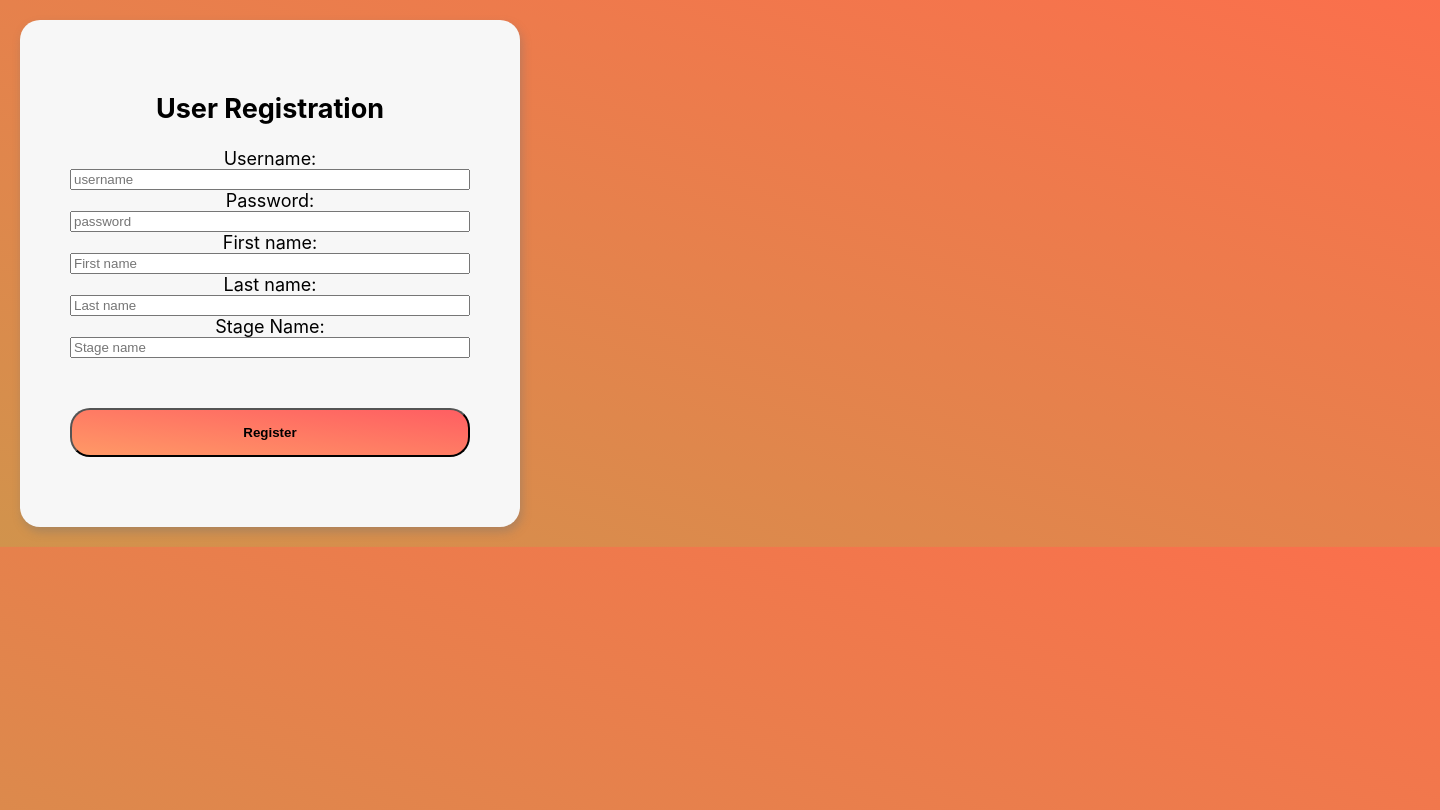
Scenario: RegisterUser.js › <h5> 'Registration Successful!' should appear when Registration is successful.
The image size is (1440, 810).
Type "chocoman" into the field labelled "username" at (270, 179), box [70,169,470,190]
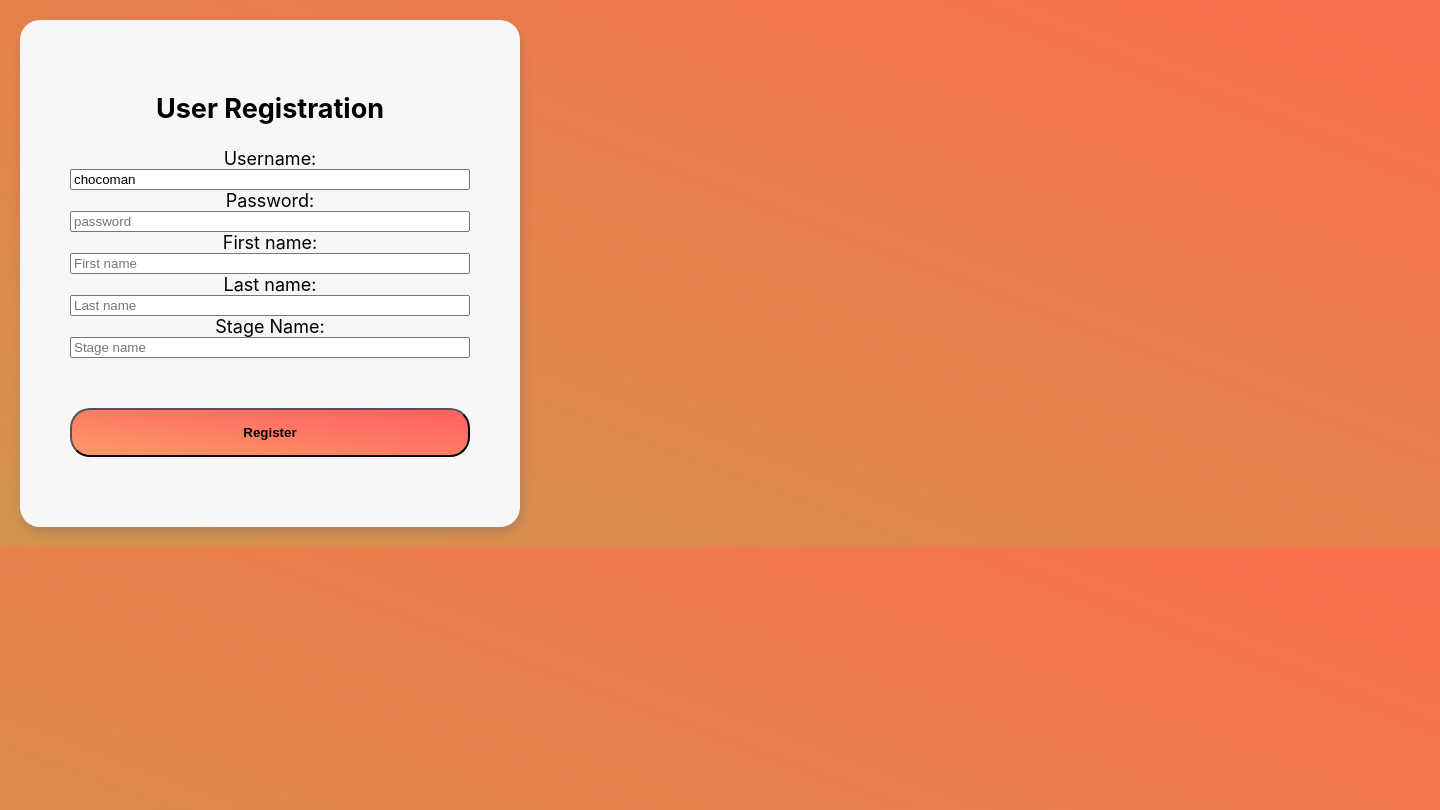
Type "Abc123123" into the password field labelled "password" at (270, 221), box [70,211,470,232]
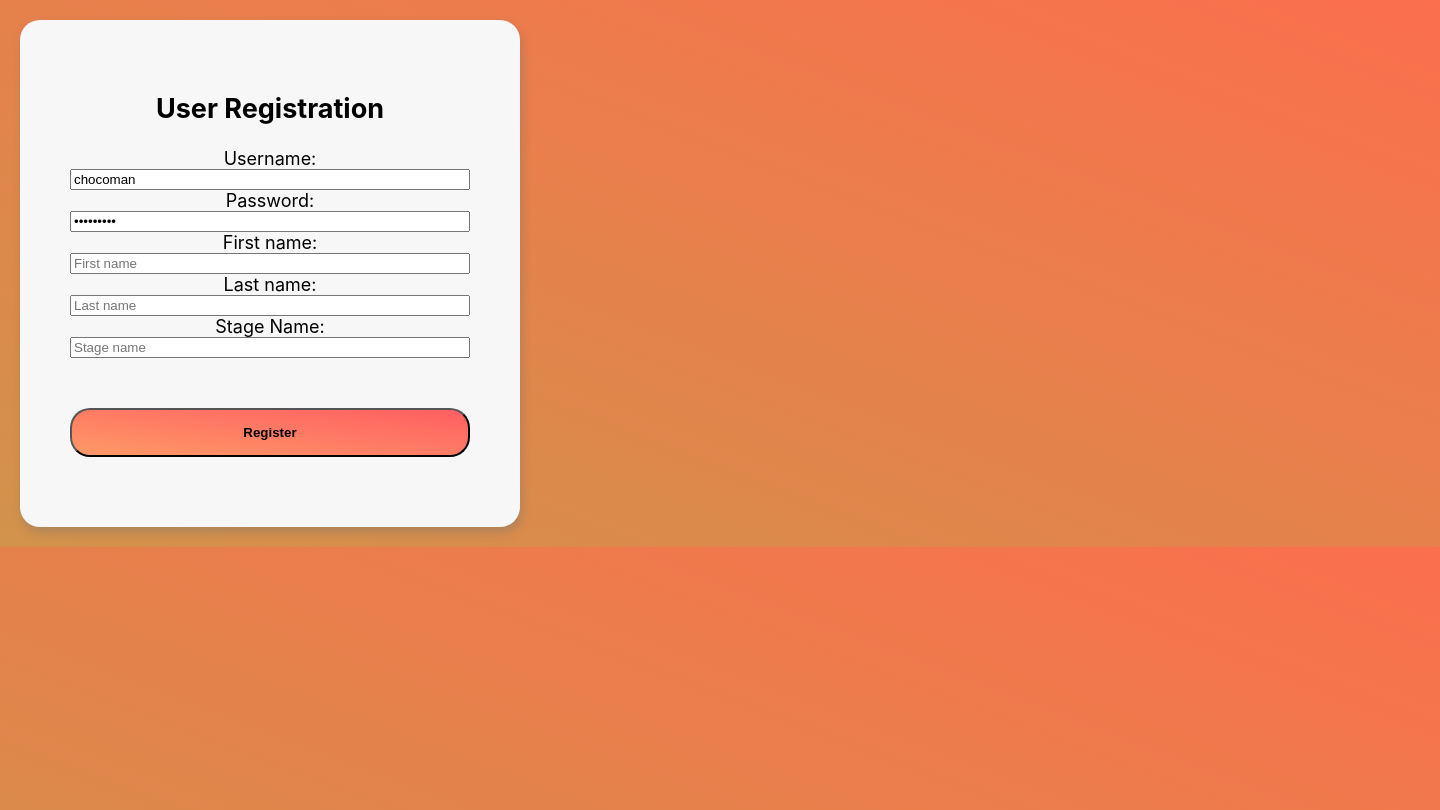
Type "choco" into the field named "firstName" at (270, 263), box [70,253,470,274]
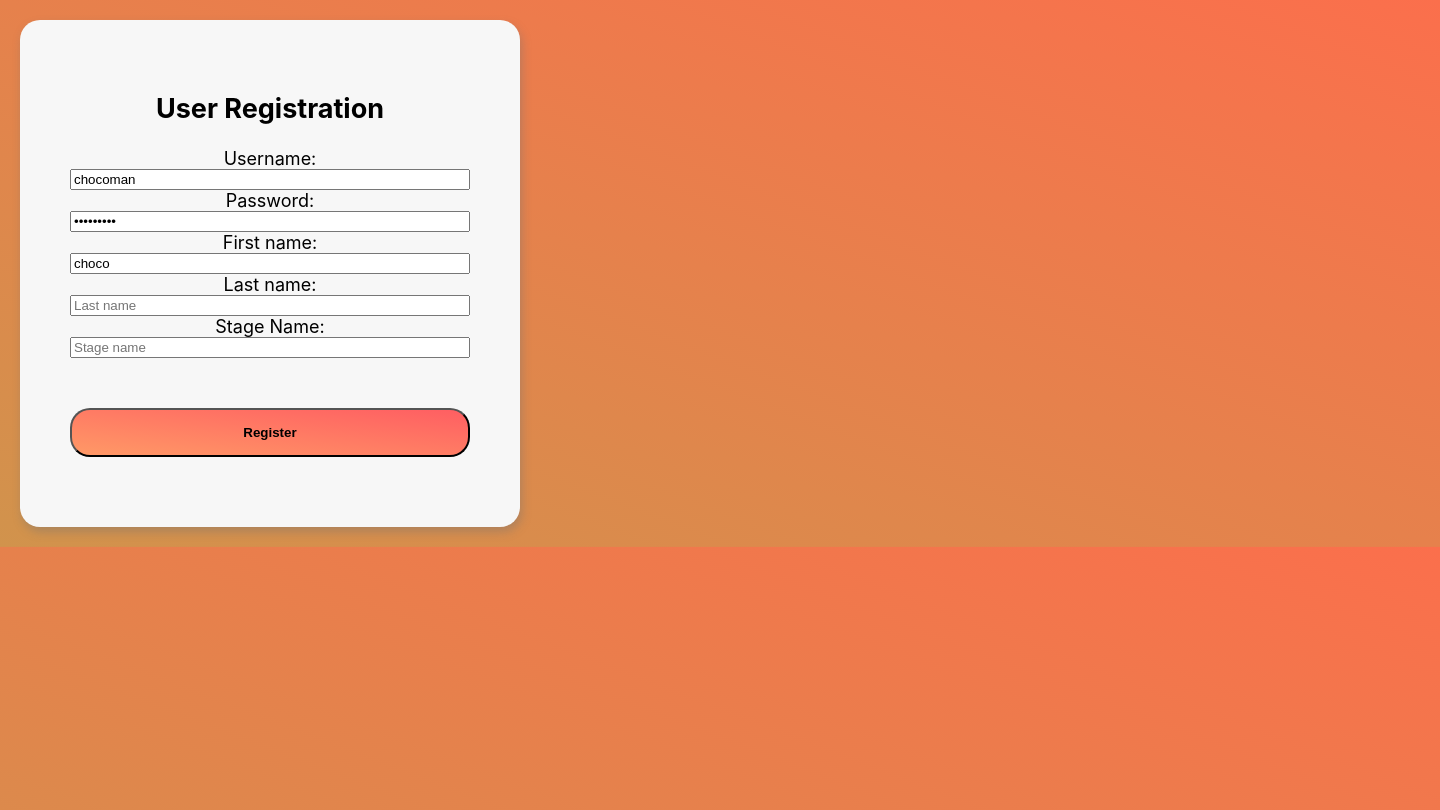
Type "man" into the field named "lastName" at (270, 305), box [70,295,470,316]
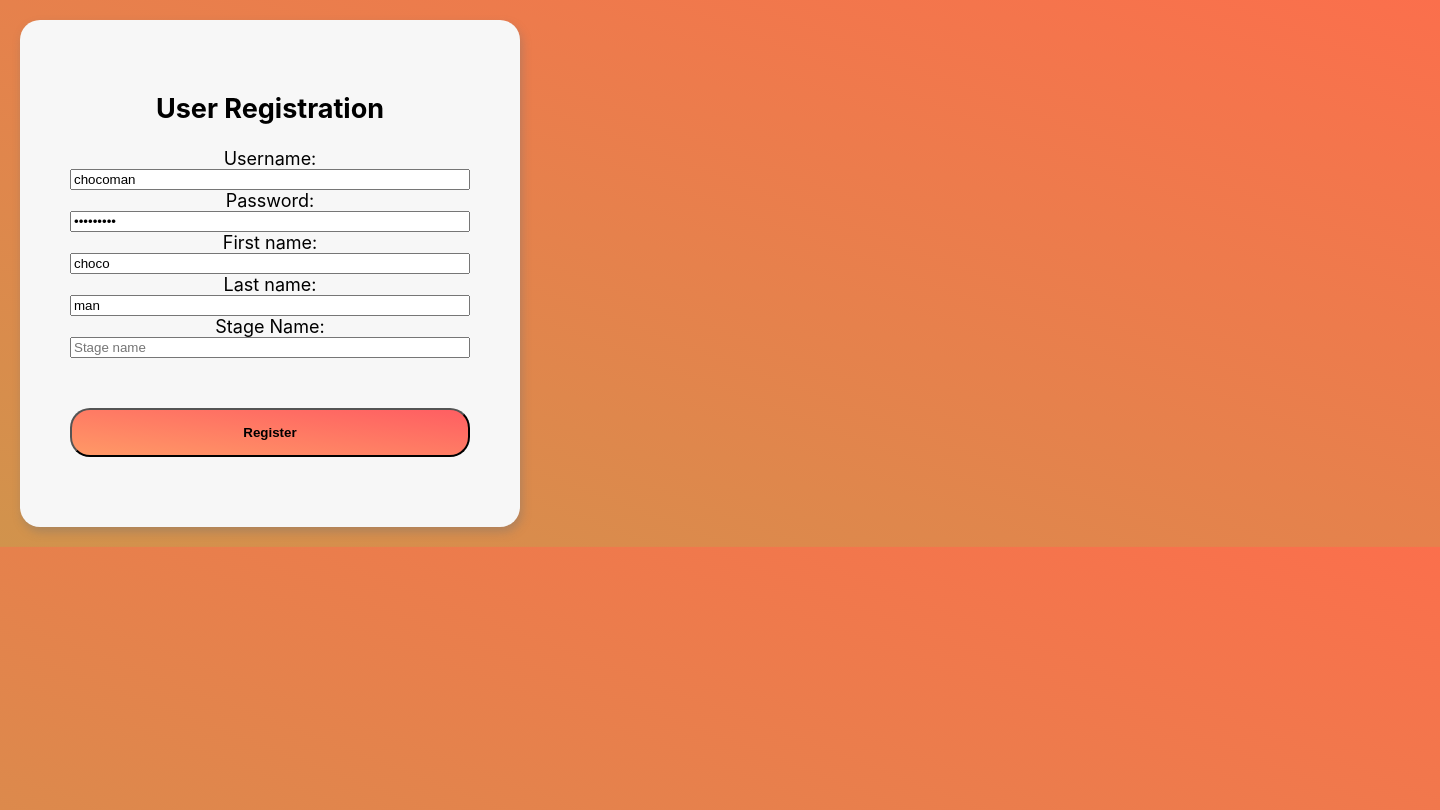
Type "chocoman" into the field named "stageName" at (270, 347), box [70,337,470,358]
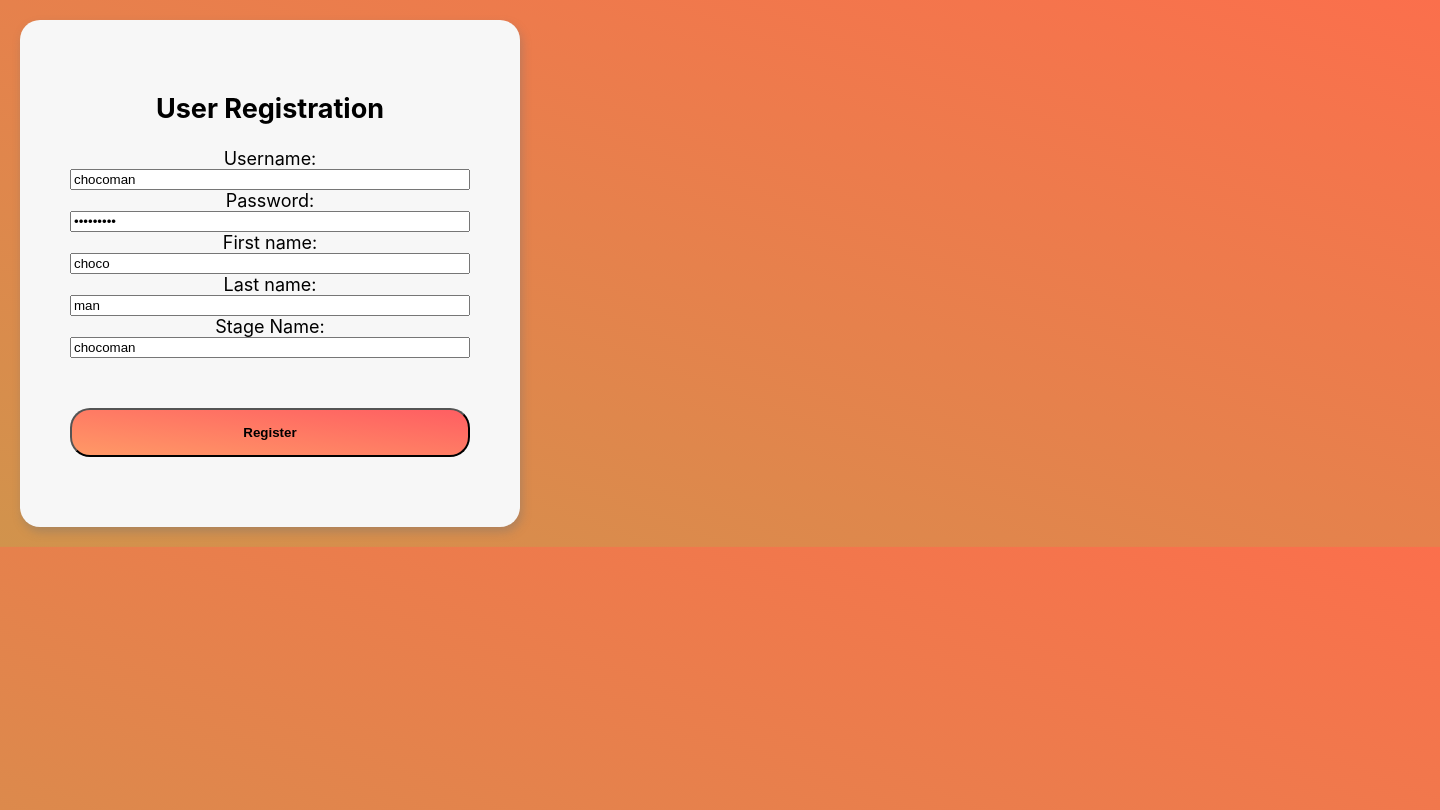
Click the button with aria-label "registerButton" at (270, 432), box [70,408,470,457]
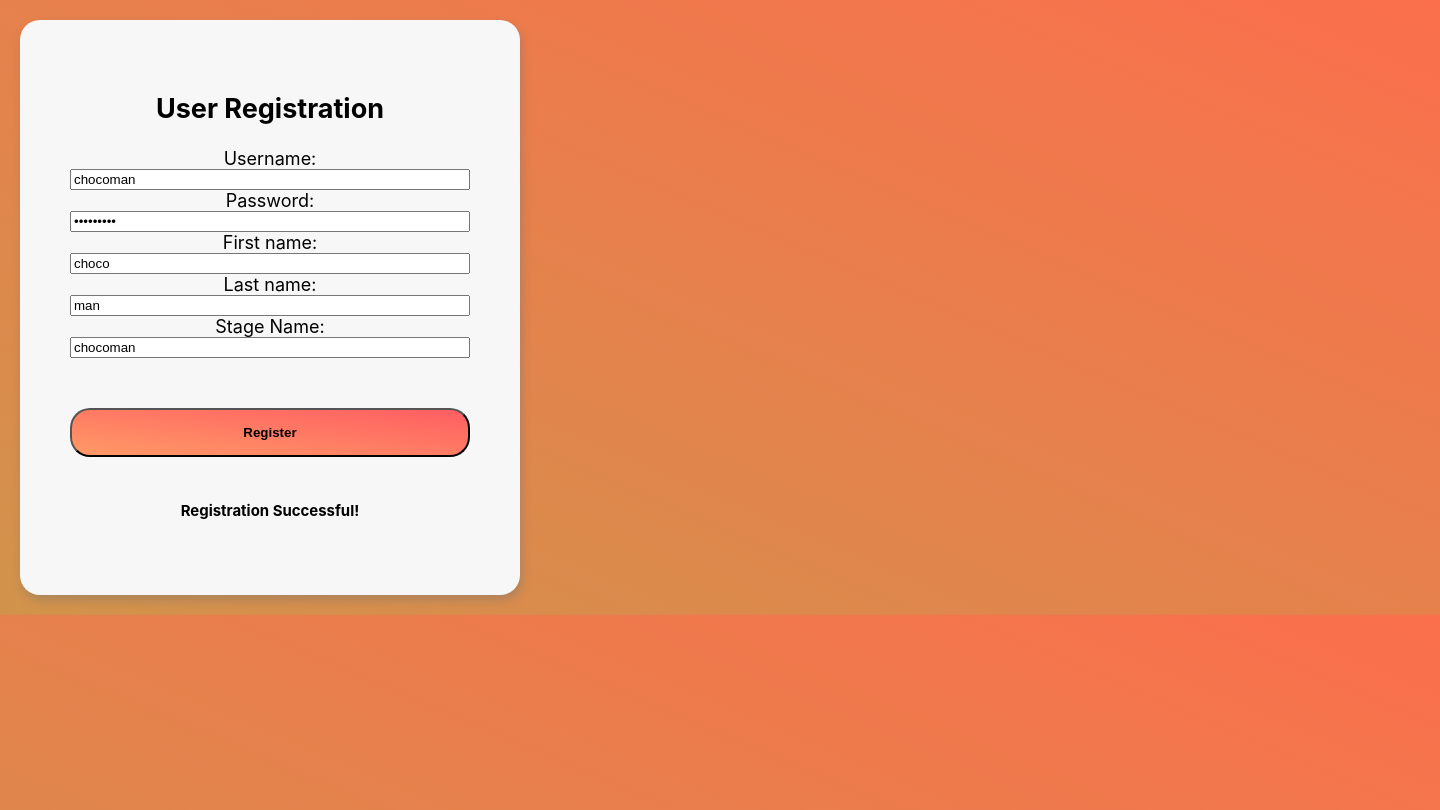
Check: the heading named "successText" is shown, box [181,502,359,520]
